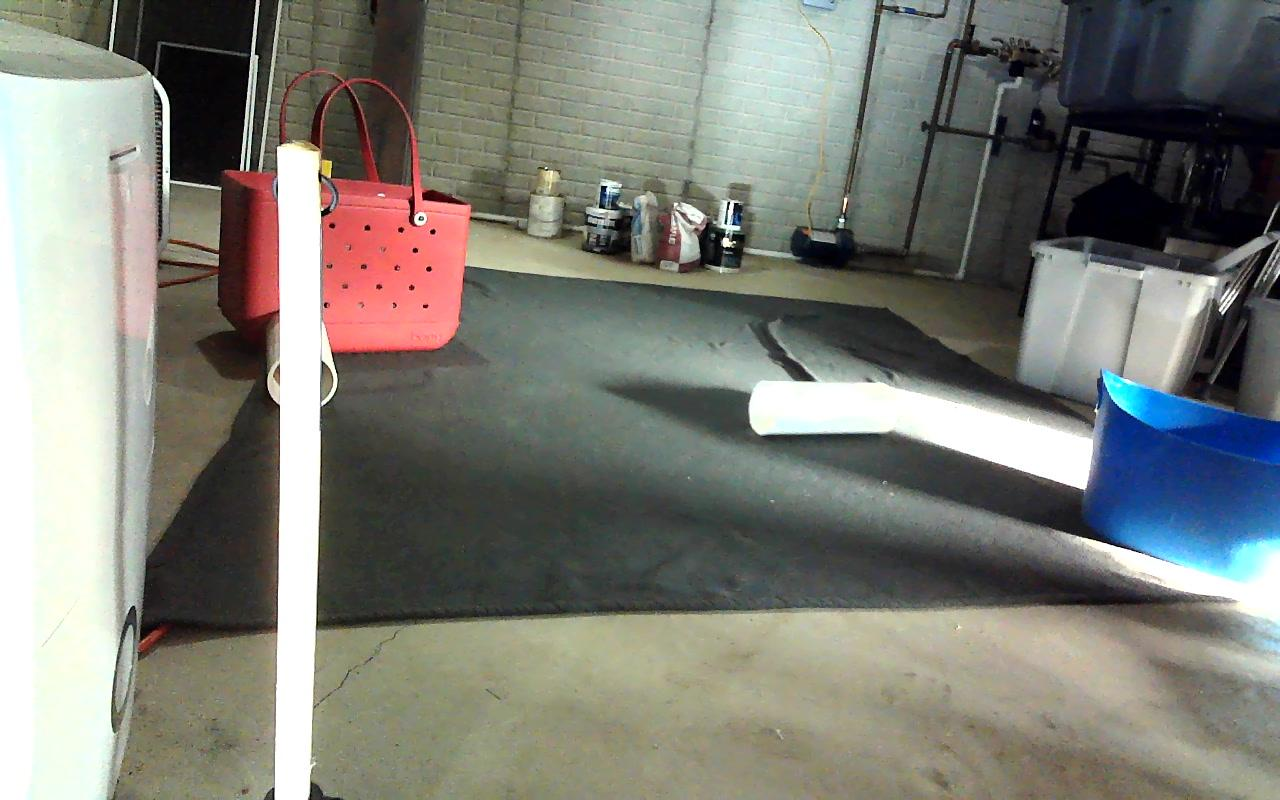coral: (749, 378, 900, 436), (266, 311, 336, 407)
